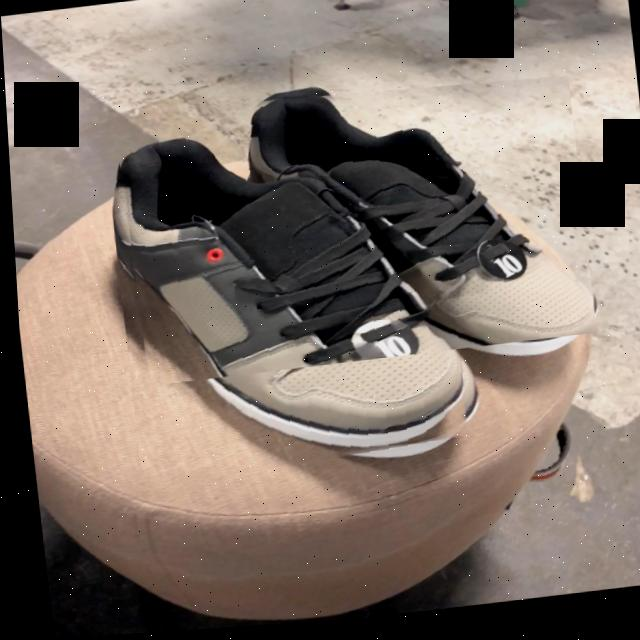shoe: (120, 99, 592, 351), (110, 139, 462, 457)
